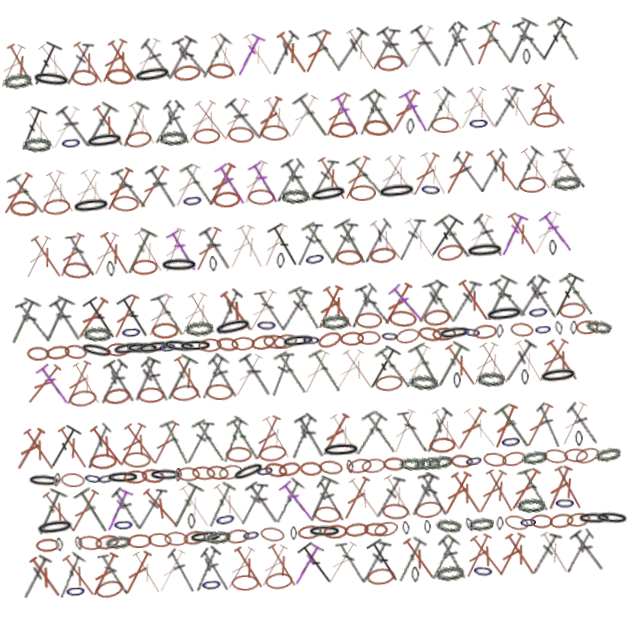chain: (42, 56, 84, 78), (212, 312, 254, 334), (223, 456, 260, 480), (314, 184, 355, 205), (144, 57, 185, 77), (77, 329, 114, 351), (93, 121, 134, 140), (25, 505, 66, 524), (484, 314, 525, 332), (535, 378, 576, 396), (77, 186, 117, 204), (383, 186, 423, 204), (160, 330, 196, 349), (162, 250, 202, 267), (468, 250, 508, 267), (584, 523, 620, 541), (315, 443, 355, 459), (82, 568, 112, 589), (110, 331, 146, 348), (135, 331, 171, 348), (436, 331, 472, 348), (19, 459, 55, 476), (133, 121, 162, 141), (439, 249, 468, 269), (14, 57, 44, 76), (124, 332, 159, 348), (280, 332, 315, 348), (82, 57, 111, 76), (65, 249, 94, 268), (388, 313, 417, 332), (405, 505, 434, 524), (315, 330, 342, 350), (405, 378, 435, 396), (567, 458, 594, 478), (493, 522, 520, 542), (422, 570, 452, 588), (219, 57, 247, 76), (372, 121, 400, 140), (100, 377, 128, 396), (304, 505, 332, 524), (141, 460, 176, 475), (178, 524, 213, 539), (297, 524, 332, 539), (567, 524, 602, 539), (269, 122, 298, 140), (65, 378, 94, 396), (116, 442, 145, 460), (252, 442, 281, 460), (354, 570, 383, 588), (117, 58, 145, 76), (185, 58, 213, 76), (236, 122, 264, 140), (338, 250, 366, 268), (423, 314, 451, 332), (584, 331, 612, 349), (202, 378, 230, 396), (587, 459, 615, 477), (372, 506, 400, 524), (416, 330, 442, 349), (558, 186, 587, 203), (184, 314, 213, 331), (320, 314, 349, 331), (177, 333, 212, 347), (98, 461, 133, 475), (15, 186, 43, 203), (117, 186, 145, 203), (253, 186, 281, 203), (372, 250, 400, 267), (168, 378, 196, 395), (372, 378, 400, 395), (256, 458, 281, 477), (394, 331, 420, 349), (311, 459, 337, 477), (475, 459, 501, 477), (494, 459, 520, 477), (249, 523, 275, 541), (363, 523, 389, 541), (31, 123, 60, 139), (167, 123, 196, 139), (286, 187, 315, 203), (82, 315, 111, 331), (473, 379, 502, 395), (507, 507, 536, 523), (389, 58, 416, 75), (49, 186, 76, 203), (355, 314, 382, 331), (559, 314, 586, 331), (219, 442, 246, 459), (419, 459, 446, 476), (514, 459, 541, 476), (425, 523, 452, 540), (253, 570, 280, 587), (306, 249, 330, 268), (204, 505, 228, 524), (459, 569, 483, 588), (62, 331, 87, 349), (214, 331, 239, 349), (440, 123, 468, 139), (249, 331, 275, 348), (261, 331, 287, 348), (536, 459, 562, 476), (202, 123, 229, 139), (338, 123, 365, 139), (542, 123, 569, 139), (219, 187, 246, 203), (355, 187, 382, 203), (425, 186, 449, 204), (525, 187, 552, 203), (134, 251, 161, 267), (151, 315, 178, 331), (134, 379, 161, 395), (83, 443, 110, 459), (423, 443, 450, 459), (407, 460, 434, 476), (94, 524, 121, 540), (194, 524, 221, 540), (219, 571, 246, 587), (272, 331, 297, 348), (133, 459, 158, 476), (184, 459, 209, 476), (198, 459, 223, 476), (211, 459, 236, 476), (270, 459, 295, 476), (340, 459, 365, 476), (67, 523, 92, 540), (84, 523, 109, 540), (172, 523, 197, 540), (509, 331, 533, 348), (44, 332, 69, 348), (53, 460, 78, 476), (354, 460, 379, 476), (137, 524, 162, 540), (215, 524, 240, 540), (353, 524, 378, 540), (539, 524, 564, 540), (556, 524, 581, 540), (187, 186, 210, 203), (255, 314, 278, 331), (527, 314, 550, 331), (458, 524, 484, 539), (25, 332, 49, 348), (292, 460, 316, 476), (443, 460, 467, 476), (287, 524, 312, 539), (334, 524, 359, 539), (494, 442, 516, 459), (545, 506, 567, 523), (392, 461, 418, 475), (472, 332, 496, 347), (169, 460, 193, 475), (557, 460, 581, 475), (154, 524, 178, 539), (461, 331, 482, 348), (75, 459, 96, 476), (69, 123, 91, 139), (477, 123, 499, 139), (120, 315, 142, 331), (103, 507, 125, 523), (52, 571, 74, 587), (188, 571, 210, 587), (376, 460, 399, 475), (520, 524, 543, 539), (105, 333, 129, 347), (197, 333, 221, 347), (230, 333, 254, 347), (339, 333, 363, 347), (356, 333, 380, 347), (431, 333, 455, 347), (116, 461, 140, 475), (25, 525, 49, 539), (117, 525, 141, 539), (313, 525, 337, 539), (575, 333, 598, 347), (89, 460, 109, 476), (248, 460, 268, 476), (457, 460, 477, 476), (379, 332, 399, 347), (231, 524, 251, 539), (301, 332, 320, 347), (157, 333, 176, 347), (533, 333, 552, 347), (509, 525, 528, 539), (455, 524, 465, 539), (415, 123, 424, 139), (109, 251, 118, 267), (279, 251, 288, 267), (554, 332, 563, 347), (45, 460, 54, 475), (64, 524, 73, 539), (535, 59, 543, 75), (212, 251, 220, 267), (552, 251, 560, 267), (450, 379, 458, 395), (518, 379, 526, 395), (569, 443, 577, 459), (178, 507, 186, 523), (399, 571, 407, 587), (495, 333, 503, 347), (569, 333, 577, 347), (167, 461, 175, 475), (339, 461, 347, 475), (45, 525, 53, 539), (392, 525, 400, 539), (486, 525, 494, 539), (280, 525, 287, 539), (414, 525, 421, 539)
double: (427, 219, 470, 268), (88, 91, 130, 141), (302, 91, 344, 141), (438, 219, 480, 269), (370, 91, 411, 141), (428, 347, 469, 397), (489, 411, 530, 461), (360, 347, 401, 396), (37, 411, 78, 460), (285, 539, 326, 588), (123, 219, 163, 269), (82, 283, 122, 333), (480, 283, 520, 333), (157, 347, 197, 397), (65, 475, 105, 525), (157, 475, 197, 525), (13, 156, 54, 204), (548, 27, 588, 76), (514, 27, 553, 77), (4, 283, 43, 333), (38, 283, 77, 333), (116, 283, 155, 333), (548, 283, 587, 333), (293, 475, 332, 525), (354, 539, 393, 589), (406, 346, 444, 397), (19, 349, 62, 394), (234, 92, 275, 139), (353, 156, 394, 203), (343, 412, 384, 459), (371, 348, 411, 396), (39, 27, 77, 77), (270, 219, 308, 269), (338, 219, 376, 269), (22, 475, 60, 525), (132, 477, 173, 523), (48, 28, 88, 75), (344, 28, 384, 75), (201, 92, 241, 139), (72, 284, 112, 331), (497, 348, 537, 395), (456, 540, 496, 587), (208, 28, 247, 76), (429, 92, 468, 140), (327, 348, 366, 396), (446, 412, 485, 460), (337, 476, 376, 524), (48, 540, 87, 588), (491, 27, 529, 76), (185, 155, 223, 204), (515, 155, 553, 204), (304, 219, 342, 268), (559, 283, 597, 332), (355, 411, 393, 460), (260, 475, 298, 524), (379, 539, 417, 588), (413, 539, 451, 588), (388, 285, 428, 331), (65, 92, 104, 139), (4, 156, 43, 203), (140, 156, 179, 203), (371, 220, 410, 267), (218, 284, 257, 331), (514, 284, 553, 331), (531, 348, 570, 395), (82, 412, 121, 459), (116, 412, 155, 459), (456, 412, 495, 459), (269, 476, 308, 523), (497, 476, 536, 523), (310, 540, 349, 587), (558, 540, 597, 587), (389, 28, 427, 76), (413, 28, 451, 76), (56, 92, 94, 140), (100, 92, 138, 140), (192, 92, 230, 140), (226, 92, 264, 140), (294, 92, 332, 140), (542, 92, 580, 140), (73, 156, 111, 204), (379, 156, 417, 204), (389, 156, 427, 204), (491, 156, 529, 204), (243, 284, 281, 332), (379, 284, 417, 332), (413, 284, 451, 332), (226, 348, 264, 396), (440, 348, 478, 396), (542, 348, 580, 396), (15, 412, 53, 460), (56, 476, 94, 524), (236, 476, 274, 524), (464, 476, 502, 524), (209, 540, 247, 588), (321, 27, 358, 76), (124, 91, 161, 140), (362, 91, 399, 140), (151, 283, 188, 332), (423, 283, 460, 332), (192, 347, 229, 396), (270, 347, 307, 396), (185, 411, 222, 460), (192, 475, 229, 524), (23, 91, 59, 141), (396, 92, 434, 139), (542, 220, 580, 267), (32, 348, 70, 395), (5, 412, 43, 459), (32, 476, 70, 523), (202, 476, 240, 523), (15, 540, 53, 587), (389, 540, 427, 587), (141, 28, 178, 76), (175, 28, 212, 76), (253, 28, 290, 76), (287, 28, 324, 76), (423, 28, 460, 76), (32, 92, 69, 140), (440, 92, 477, 140), (464, 92, 501, 140), (474, 92, 511, 140), (532, 92, 569, 140), (107, 156, 144, 204), (151, 156, 188, 204), (175, 156, 212, 204), (209, 156, 246, 204), (287, 156, 324, 204), (447, 156, 484, 204), (549, 156, 586, 204), (32, 220, 69, 268), (90, 220, 127, 268), (202, 220, 239, 268), (406, 220, 443, 268), (532, 220, 569, 268), (49, 284, 86, 332), (175, 284, 212, 332), (321, 284, 358, 332), (457, 284, 494, 332), (100, 348, 137, 396), (236, 348, 273, 396), (474, 348, 511, 396), (49, 412, 86, 460), (107, 412, 144, 460), (141, 412, 178, 460), (515, 412, 552, 460), (168, 476, 205, 524), (430, 476, 467, 524), (440, 476, 477, 524), (5, 540, 42, 588), (107, 540, 144, 588), (141, 540, 178, 588), (243, 540, 280, 588), (481, 540, 518, 588), (491, 540, 528, 588), (108, 27, 144, 76), (135, 219, 171, 268), (227, 219, 263, 268), (108, 283, 144, 332), (57, 347, 93, 396), (305, 347, 341, 396), (397, 347, 433, 396), (509, 347, 545, 396), (220, 411, 256, 460), (40, 539, 76, 588), (448, 539, 484, 588), (526, 539, 562, 588), (525, 156, 562, 203), (338, 348, 375, 395), (311, 412, 348, 459), (277, 540, 314, 587), (6, 28, 42, 76), (84, 28, 120, 76), (118, 28, 154, 76), (244, 28, 280, 76), (312, 28, 348, 76), (356, 28, 392, 76), (271, 92, 307, 140), (329, 92, 365, 140), (509, 92, 545, 140), (84, 156, 120, 204), (220, 156, 256, 204), (414, 156, 450, 204), (23, 220, 59, 268), (101, 220, 137, 268), (193, 220, 229, 268), (465, 220, 501, 268), (509, 220, 545, 268), (142, 284, 178, 332), (312, 284, 348, 332), (295, 348, 331, 396), (288, 412, 324, 460), (322, 412, 358, 460), (424, 412, 460, 460), (550, 412, 586, 460), (329, 476, 365, 524), (397, 476, 433, 524), (74, 540, 110, 588), (560, 27, 595, 76), (135, 91, 170, 140), (40, 155, 75, 204), (244, 155, 279, 204), (322, 155, 357, 204), (57, 219, 92, 268), (261, 219, 296, 268), (288, 283, 323, 332), (169, 347, 204, 396), (210, 411, 245, 460), (244, 411, 279, 460), (254, 411, 289, 460), (373, 475, 408, 524), (475, 475, 510, 524), (509, 475, 544, 524), (533, 475, 568, 524), (254, 539, 289, 588), (158, 93, 196, 138), (185, 29, 222, 75), (261, 92, 296, 140), (50, 156, 85, 204), (254, 156, 289, 204), (346, 156, 381, 204), (169, 220, 204, 268), (499, 220, 534, 268), (186, 284, 221, 332), (67, 348, 102, 396), (465, 348, 500, 396), (118, 540, 153, 588), (220, 540, 255, 588), (17, 27, 51, 76), (221, 27, 255, 76), (483, 27, 517, 76), (238, 219, 272, 268), (126, 347, 160, 396), (381, 411, 415, 460), (483, 411, 517, 460), (544, 475, 578, 524), (491, 285, 528, 330), (152, 29, 188, 75), (278, 29, 314, 75), (499, 93, 535, 139), (118, 157, 154, 203), (278, 285, 314, 331), (356, 285, 392, 331), (448, 285, 484, 331), (91, 349, 127, 395), (560, 413, 596, 459), (516, 541, 552, 587), (101, 476, 136, 523), (408, 92, 442, 140), (92, 476, 126, 524), (278, 157, 314, 202), (458, 157, 494, 202), (425, 155, 458, 204), (153, 411, 186, 460), (526, 29, 561, 75), (363, 221, 398, 267), (16, 285, 51, 331), (526, 285, 561, 331), (414, 413, 449, 459), (125, 477, 160, 523), (363, 477, 398, 523), (346, 541, 381, 587), (449, 28, 483, 75), (476, 220, 510, 267), (211, 284, 245, 331), (204, 348, 238, 395), (279, 412, 313, 459), (177, 540, 211, 587), (340, 92, 373, 140), (482, 157, 517, 202), (550, 541, 585, 586), (161, 219, 193, 268), (381, 29, 415, 75), (313, 157, 347, 203), (425, 540, 458, 587), (75, 29, 108, 75), (561, 157, 594, 203), (330, 221, 363, 267), (255, 285, 288, 331), (347, 285, 380, 331), (177, 413, 210, 459), (228, 477, 261, 523), (306, 477, 339, 523), (187, 541, 220, 587), (171, 92, 203, 139), (399, 220, 431, 267), (137, 348, 169, 395), (76, 412, 108, 459), (392, 412, 424, 459), (86, 540, 118, 587), (154, 540, 186, 587), (324, 540, 356, 587), (460, 28, 491, 75), (69, 220, 100, 267), (297, 220, 328, 267), (410, 476, 440, 524), (265, 348, 293, 396), (530, 412, 558, 460)
